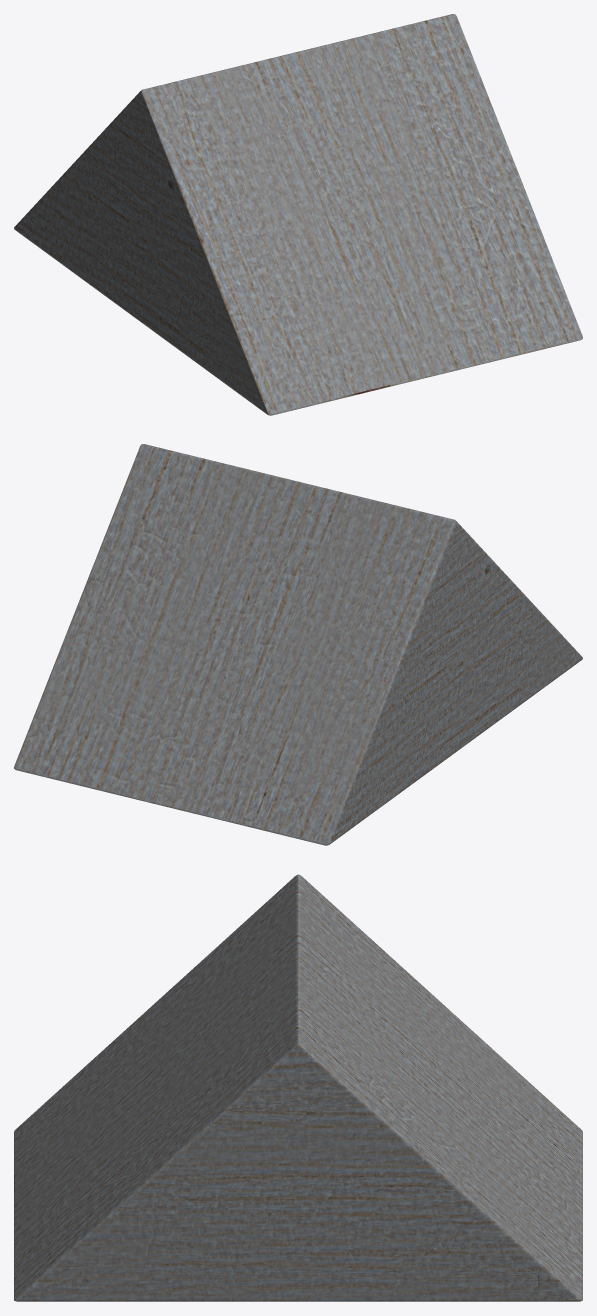
Rendered from Small Triangle UVed OBJ.obj.
The picture shows the model from 3 angles, top to bottom: view 1: azimuth 30°, elevation 25°; view 2: azimuth 150°, elevation 25°; view 3: azimuth 270°, elevation 25°; orthographic projection. The views are drawn at different scales.
Visible parts, largest first — view 1: Block6LOWTRIANGLE_pCube1; view 2: Block6LOWTRIANGLE_pCube1; view 3: Block6LOWTRIANGLE_pCube1.
Boxes of the visible parts, x1,y1,x2,y2 form: Block6LOWTRIANGLE_pCube1: [14, 14, 582, 415]; Block6LOWTRIANGLE_pCube1: [14, 444, 582, 845]; Block6LOWTRIANGLE_pCube1: [14, 874, 582, 1301].
Size of the model in its own units: 94.43 by 66.38 by 132.
Materials: 1 (1 with a texture image).
